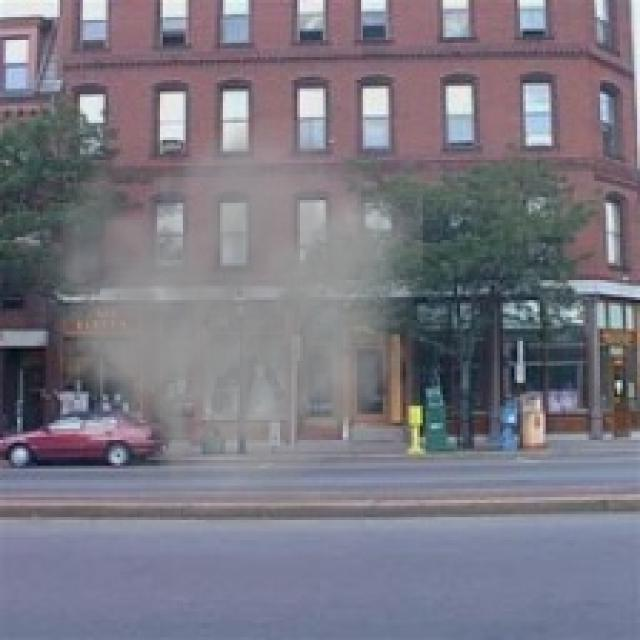smoke: (17, 106, 423, 520)
